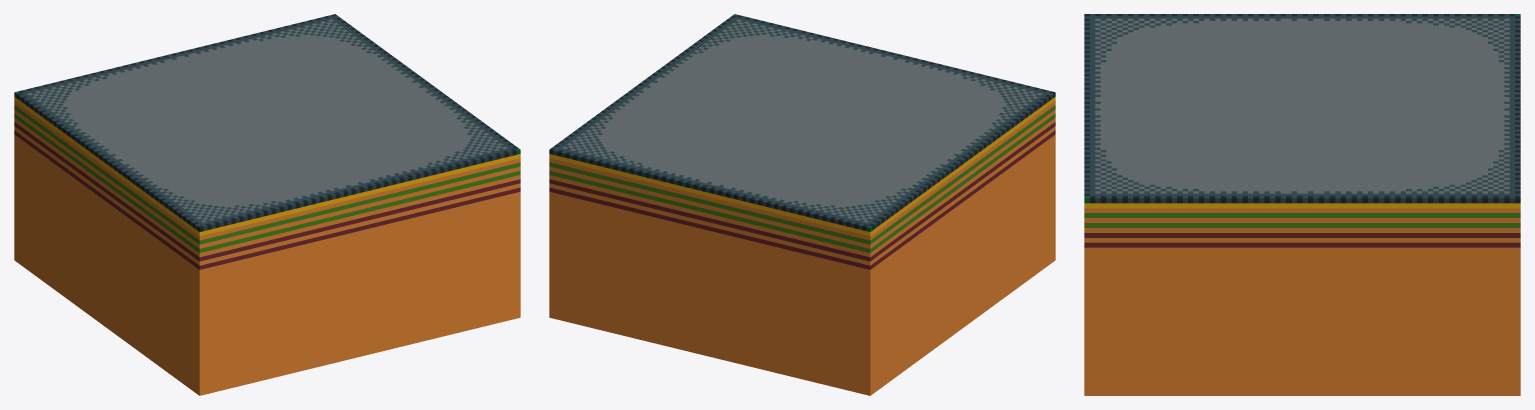
The model's file is concrete_tile.obj.
3 views of the same model, side by side, from view 1: azimuth 30°, elevation 25°; view 2: azimuth 150°, elevation 25°; view 3: azimuth 270°, elevation 25° (orthographic). The views are drawn at different scales.
Size of the model in its own units: 8 by 4 by 8.
Materials: 1 (1 with a texture image).
